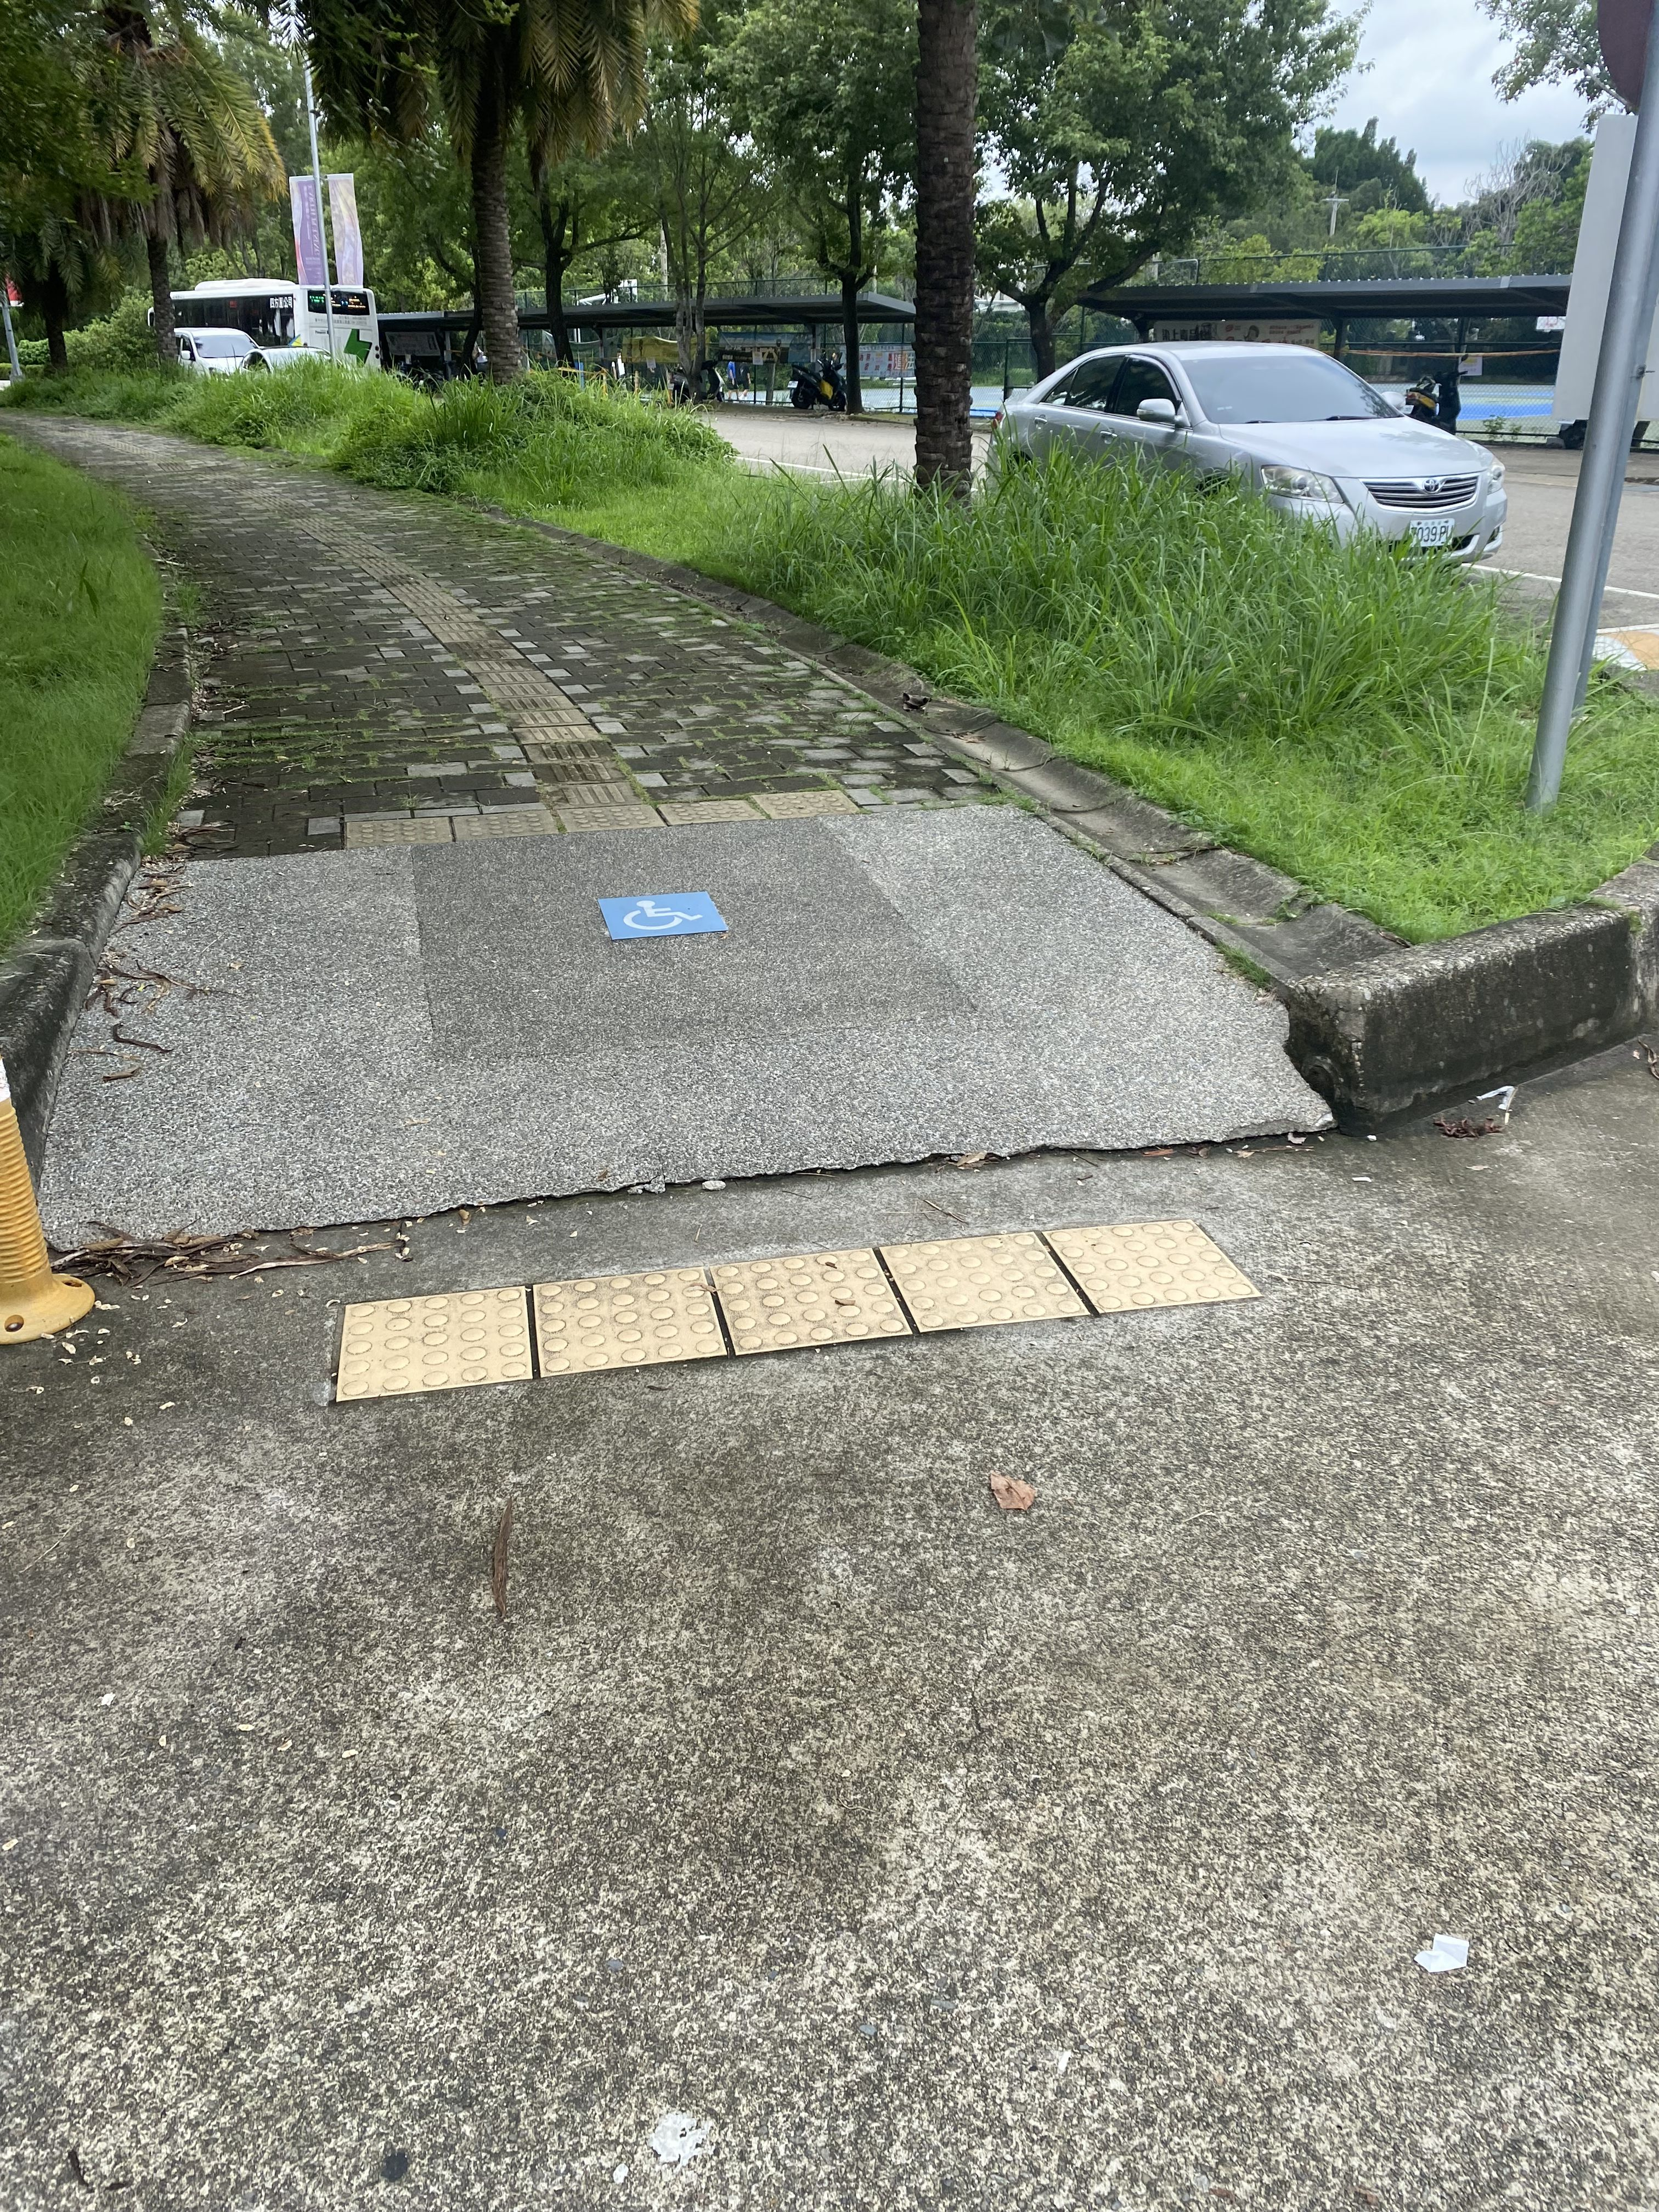sidewalk: (3, 411, 1363, 1376)
